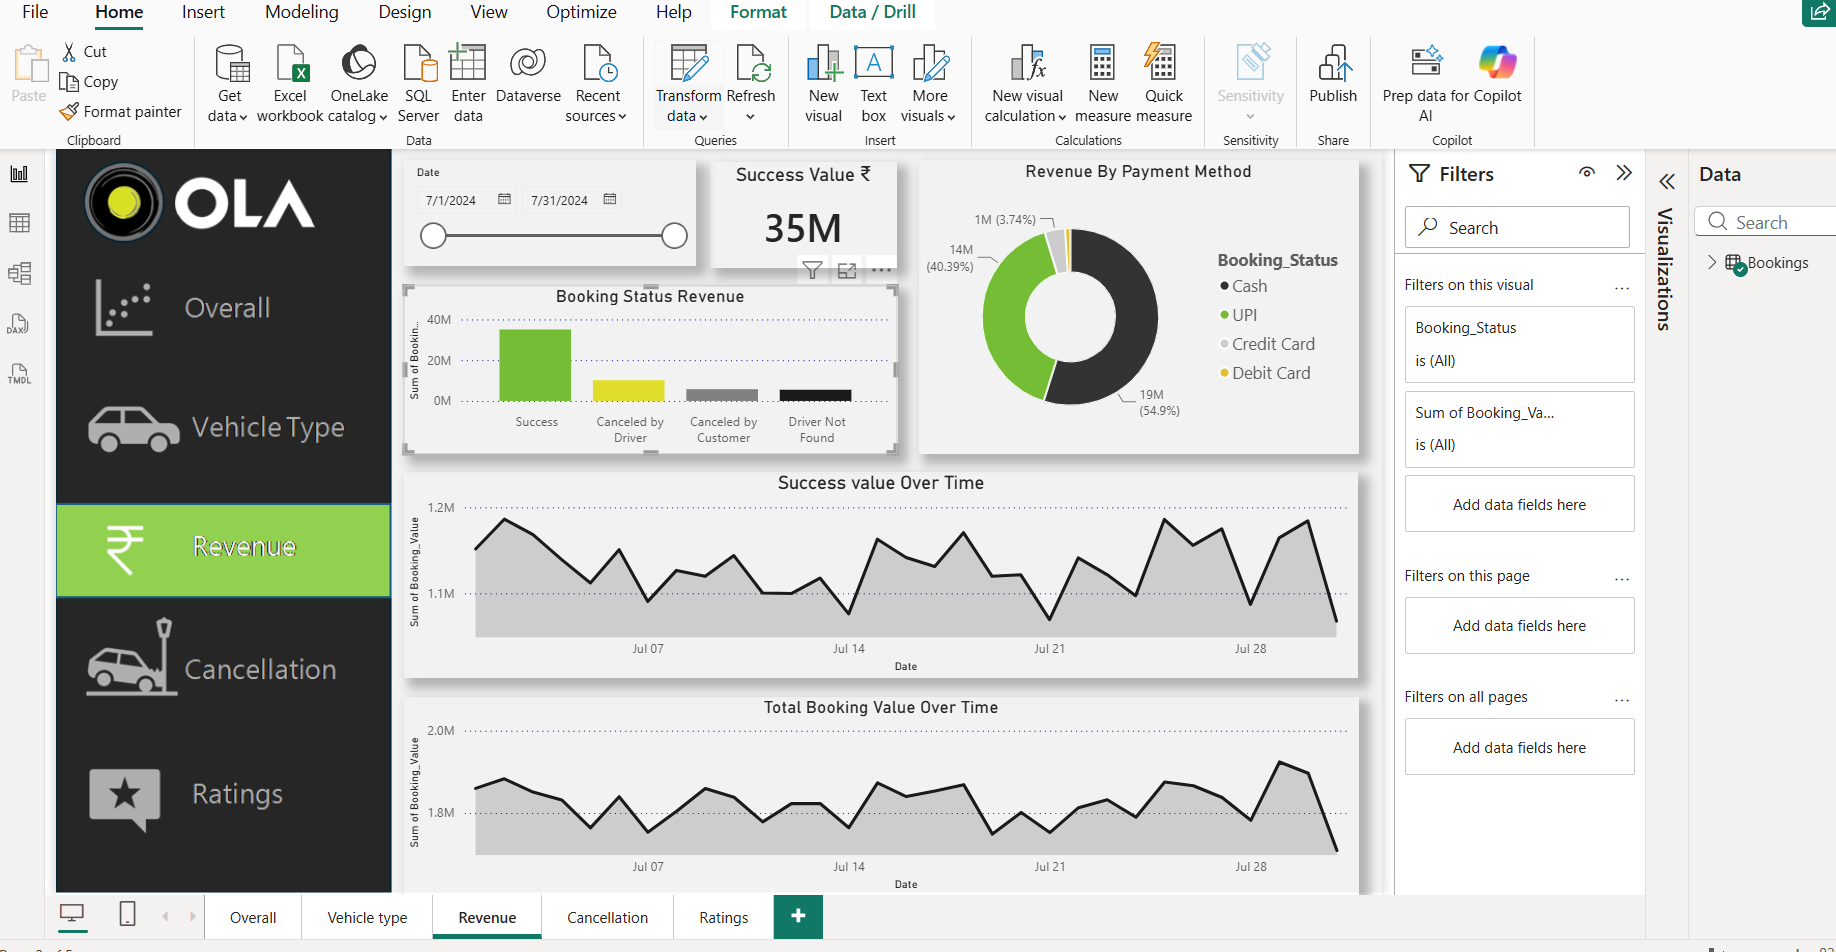

What the dashboard file says about the page in this screenshot:
{"tool":"powerbi","page":{"name":"Revenue","canvas":[1280,720],"ordinal":2},"visuals":[{"type":"actionButton","box":[0,109.8,324.5,94.1],"z":0},{"type":"actionButton","box":[0,217.2,324.5,94.1],"z":1000},{"type":"actionButton","box":[0,445.2,324.5,106.2],"z":2000},{"type":"actionButton","box":[0,567,324.5,103.8],"z":3000},{"type":"lineChart","title":"Total Booking Value Over Time","fields":{"Category":["Bookings.Date"],"Y":["Sum(Bookings.Booking_Value)"]},"box":[334.8,528.3,922.1,192.1],"z":4000},{"type":"lineChart","title":"Success value Over Time","fields":{"Category":["Bookings.Date"],"Y":["Sum(Bookings.Booking_Value)"]},"box":[335.4,311.3,921.7,199.1],"z":5000},{"type":"donutChart","title":"Revenue By Payment Method","fields":{"Category":["Bookings.Payment_Method"],"Y":["Sum(Bookings.Booking_Value)"]},"box":[832.4,10.9,424.7,283.5],"z":6000},{"type":"slicer","fields":{"Values":["Bookings.Date"]},"box":[335.4,10.9,282.3,102.5],"z":7000},{"type":"columnChart","title":"Booking Status Revenue ","fields":{"Y":["Sum(Bookings.Booking_Value)"],"Category":["Bookings.Booking_Status"]},"box":[335.4,131.5,476.5,162.9],"z":8000},{"type":"cardVisual","title":"Success Value ₹","fields":{"Data":["Sum(Bookings.Booking_Value)"]},"box":[631,12.1,181,102.5],"z":9000}]}

Visuals, with their boxes on the page's 1280x720 design canvas (x1, y1, x2, y2). These are canvas units, not pixel positions in the 1836x952 screenshot, which may show the page scaled, cropped or inside an application window:
actionButton: (0, 110, 324, 204)
actionButton: (0, 217, 324, 311)
actionButton: (0, 445, 324, 551)
actionButton: (0, 567, 324, 671)
"Total Booking Value Over Time" lineChart: (335, 528, 1257, 720)
"Success value Over Time" lineChart: (335, 311, 1257, 510)
"Revenue By Payment Method" donutChart: (832, 11, 1257, 294)
slicer - Bookings.Date: (335, 11, 618, 113)
"Booking Status Revenue " columnChart: (335, 132, 812, 294)
"Success Value ₹" cardVisual: (631, 12, 812, 115)
